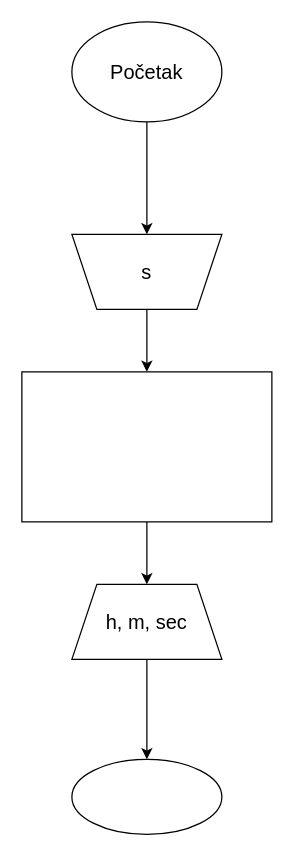
This 294x856 diagram has some shape labels left out. Each missing label, with the centre of its shape:
h = s / 3600 m = s % 3600 / 60 s = s % 3600 % 60: the point at 146,446
Kraj: the point at 146,796
